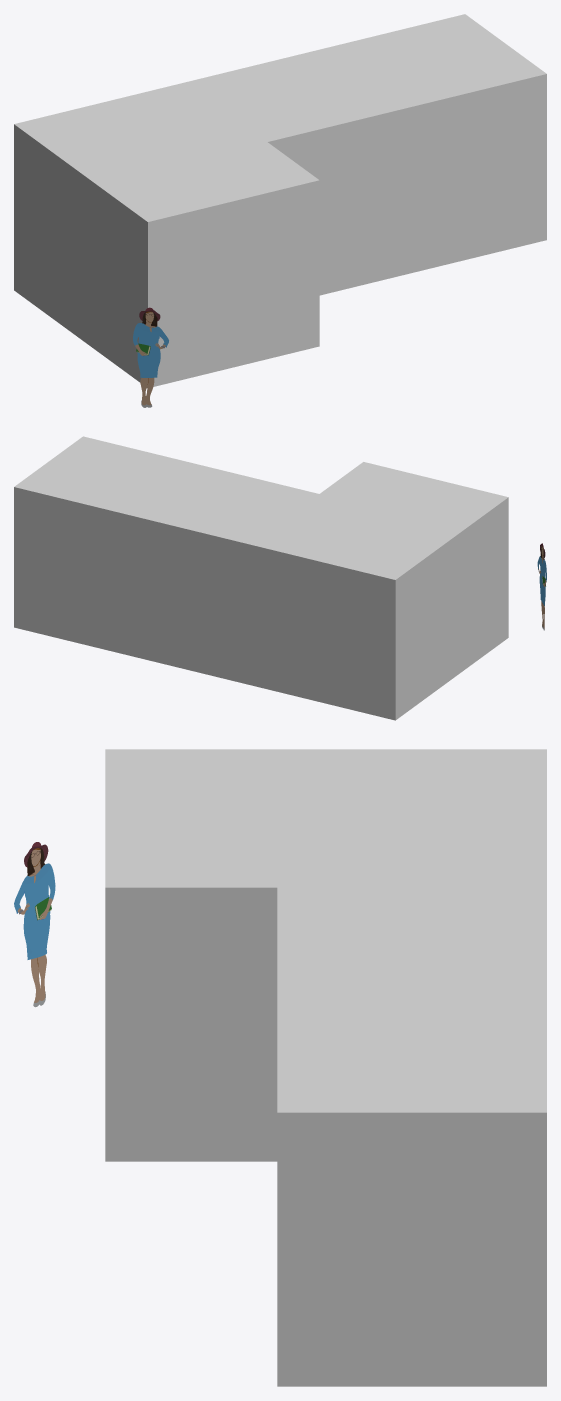
The model's file is raumWindowsless.fbx.
3 views of the same model, one above another, from view 1: azimuth 30°, elevation 25°; view 2: azimuth 150°, elevation 25°; view 3: azimuth 270°, elevation 25° (orthographic). The views are drawn at different scales.
Visible parts, largest first — view 1: Model, Teddy1; view 2: Model, Teddy1; view 3: Model, Teddy1.
Part boxes in pixels (x1=…): Model: x1=14, y1=14, x2=546, y2=387; Teddy1: x1=133, y1=307, x2=168, y2=407; Model: x1=14, y1=436, x2=508, y2=720; Teddy1: x1=537, y1=543, x2=546, y2=630; Model: x1=105, y1=749, x2=546, y2=1386; Teddy1: x1=14, y1=842, x2=55, y2=1007.
Bounding box in the file's own units: 8.8 × 2.9 × 5.12.
